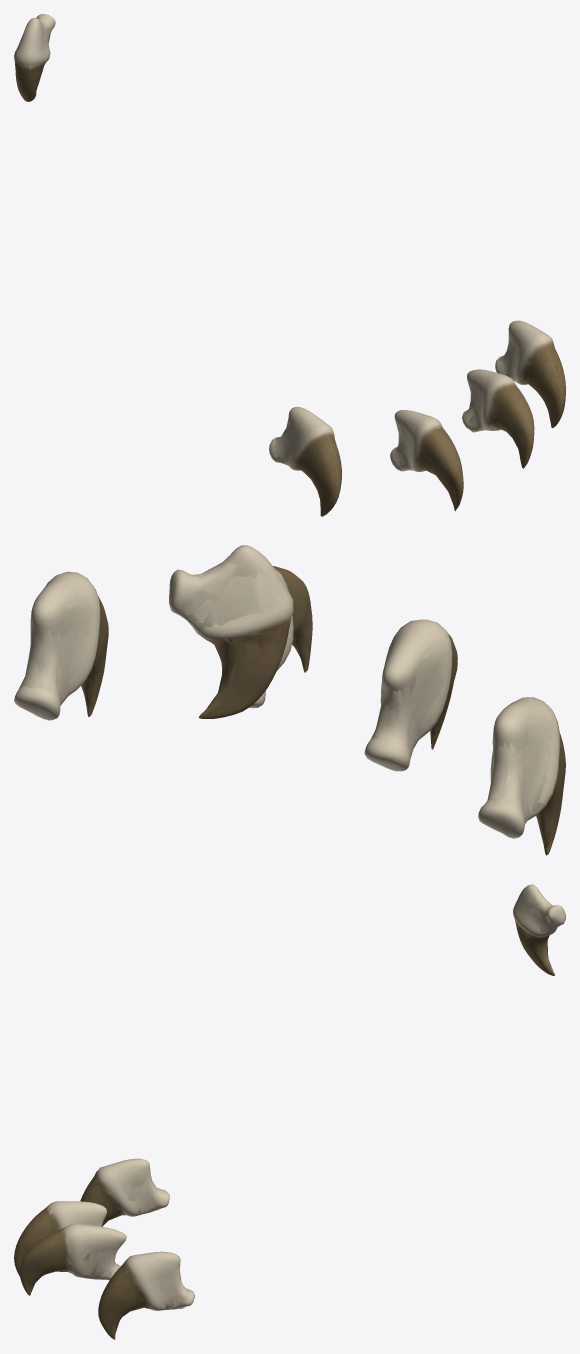
Rendered from FL 3rd Phalanx.fbx.
3 views of the same model, one above another, from view 1: azimuth 30°, elevation 25°; view 2: azimuth 150°, elevation 25°; view 3: azimuth 270°, elevation 25° (orthographic). The views are drawn at different scales.
Visible parts, largest first — view 1: FL 3rd Phalanx high, FL 3rd Phalanx low, FL 3rd Phalanx; view 2: FL 3rd Phalanx high, FL 3rd Phalanx low, FL 3rd Phalanx; view 3: FL 3rd Phalanx high, FL 3rd Phalanx, FL 3rd Phalanx low.
Part boxes in pixels (left/top/right/bottom): FL 3rd Phalanx high: left=14, top=14, right=565, bottom=516; FL 3rd Phalanx low: left=15, top=16, right=556, bottom=498; FL 3rd Phalanx: left=15, top=20, right=553, bottom=508; FL 3rd Phalanx high: left=14, top=545, right=565, bottom=855; FL 3rd Phalanx low: left=18, top=563, right=562, bottom=848; FL 3rd Phalanx: left=28, top=553, right=562, bottom=853; FL 3rd Phalanx high: left=14, top=884, right=565, bottom=1339; FL 3rd Phalanx: left=23, top=891, right=558, bottom=1333; FL 3rd Phalanx low: left=27, top=895, right=554, bottom=1336.
Size of the model in its own units: 11.06 by 10.92 by 16.29.
Materials: 1 (1 with a texture image).
